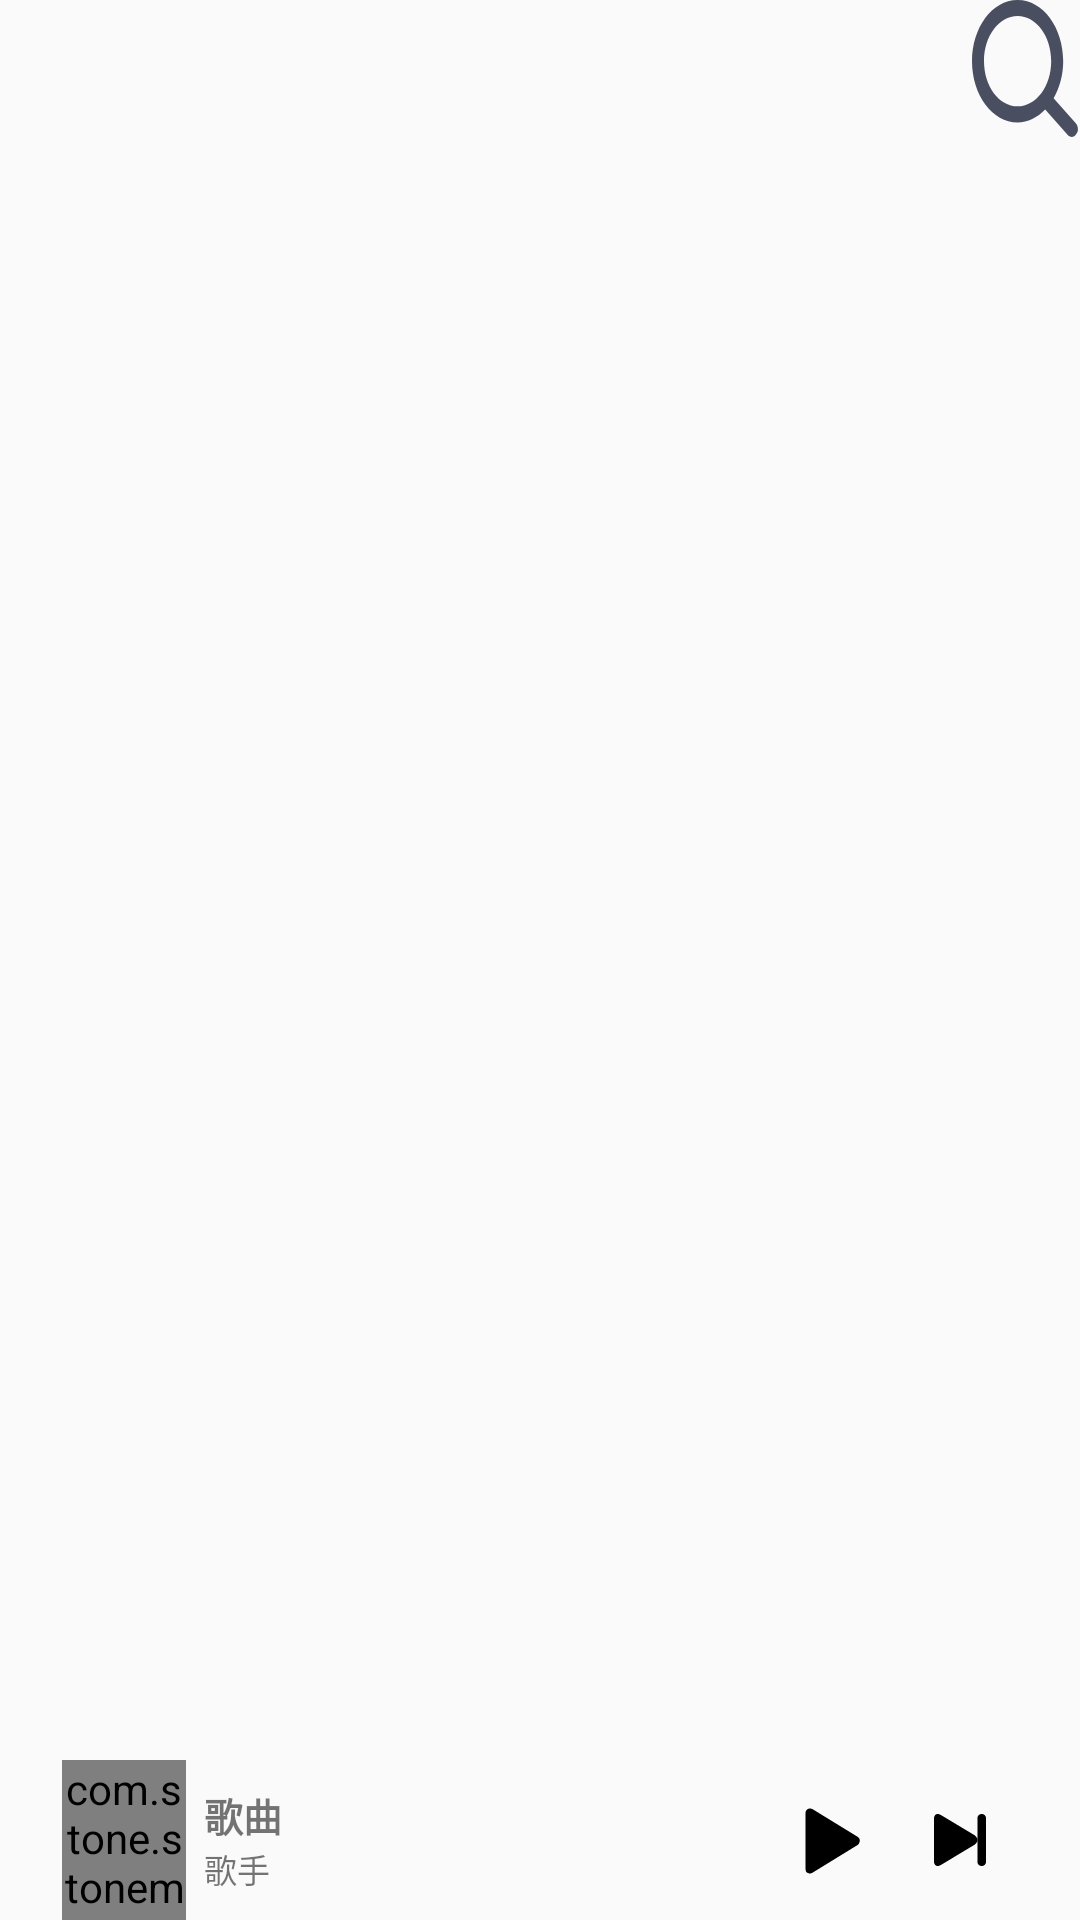

Where to tap for icons on this 1080w x 1920h app screen, as [x,y]:
find: [1025,68]
next: [960,1840]
play: [832,1841]
